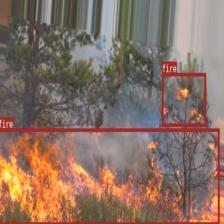fire: (0, 127, 219, 224), (162, 72, 206, 126)
